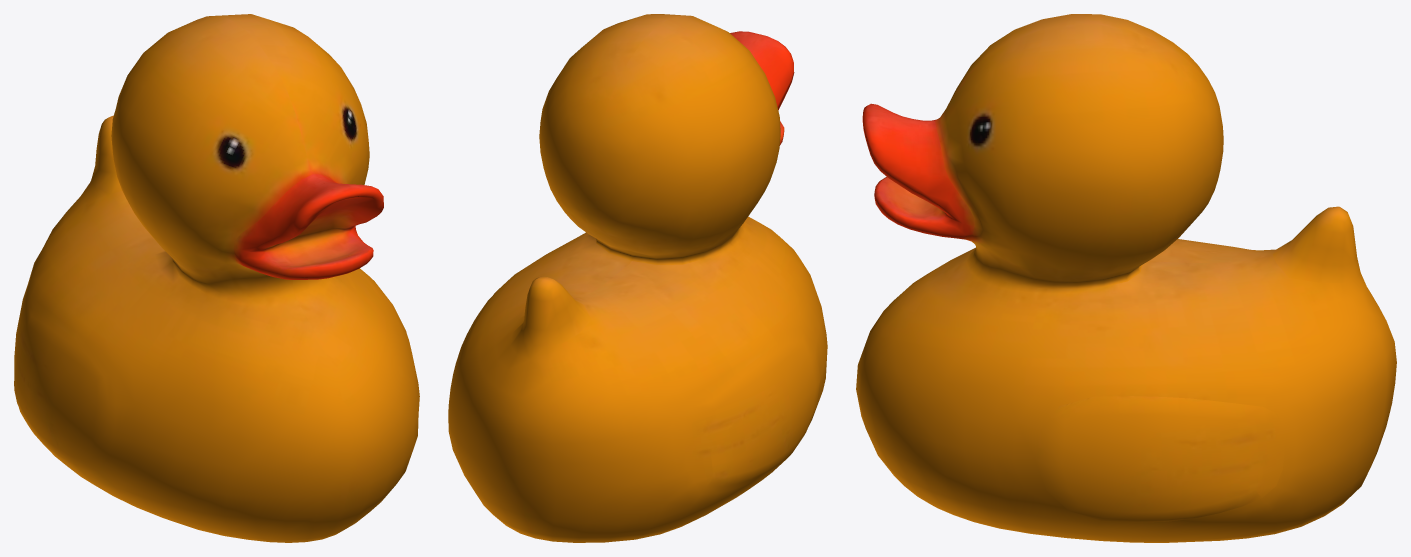
Rendered from rubber_duck_toy.glb.
3 renders of one model, left to right at view 1: azimuth 30°, elevation 25°; view 2: azimuth 150°, elevation 25°; view 3: azimuth 270°, elevation 25°, orthographic. The views are drawn at different scales.
Parts seen in each view (by area): view 1: rubber_duck_toy; view 2: rubber_duck_toy; view 3: rubber_duck_toy.
Part boxes in pixels (<box>): rubber_duck_toy: <box>14,14,419,542</box>; rubber_duck_toy: <box>448,14,827,542</box>; rubber_duck_toy: <box>856,14,1396,542</box>.
Bounding box in the file's own units: 0.2135 × 0.2855 × 0.3.
Materials: 1 (1 with a texture image).
